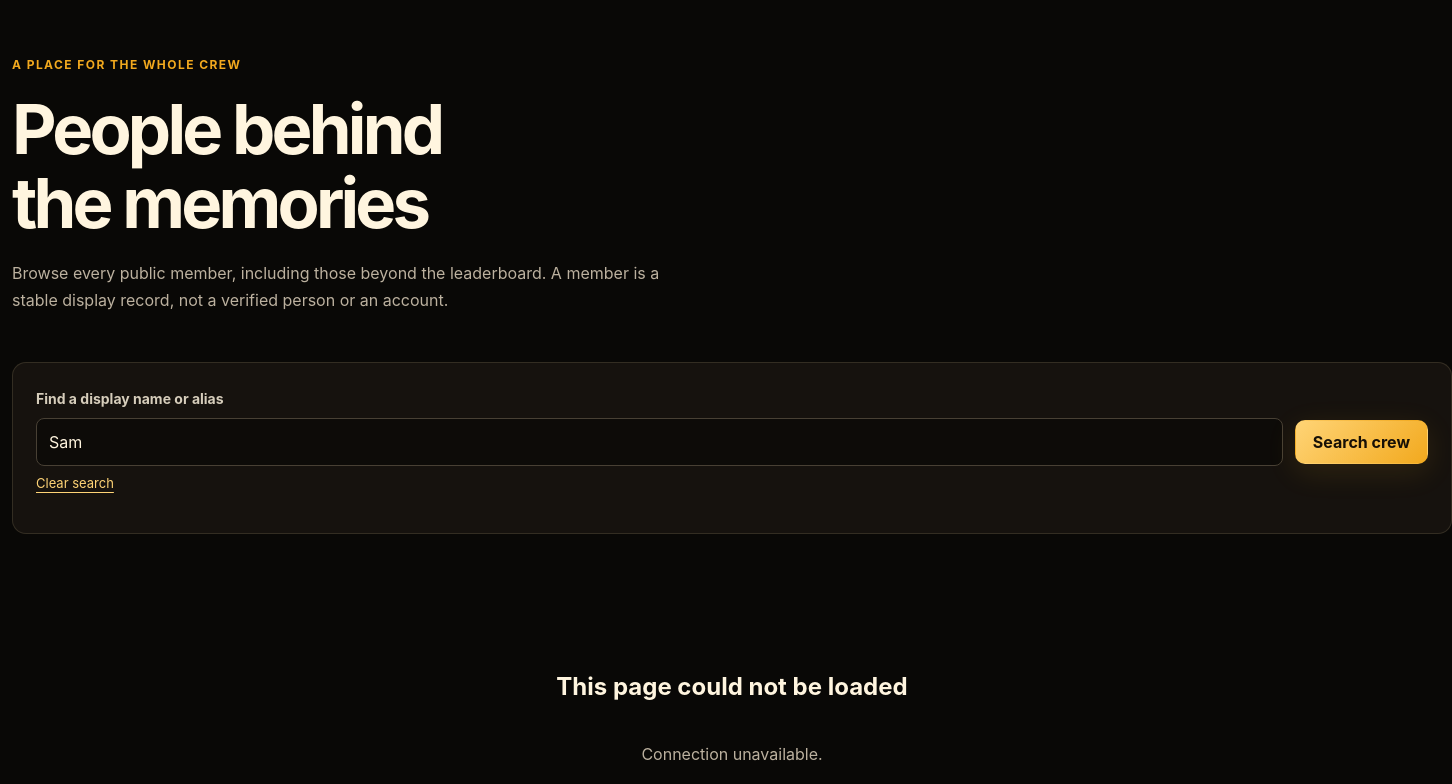
it: community page feedback › retries a directory request in place and preserves the current search input
Expected: the message shows "Connection unavailable.", top-left (641, 744), bottom-right (823, 764)
Type " Jones" into the search field.
click(659, 442); type(" Jones")  # box top-left (36, 418), bottom-right (1283, 466)
(page scrolled)
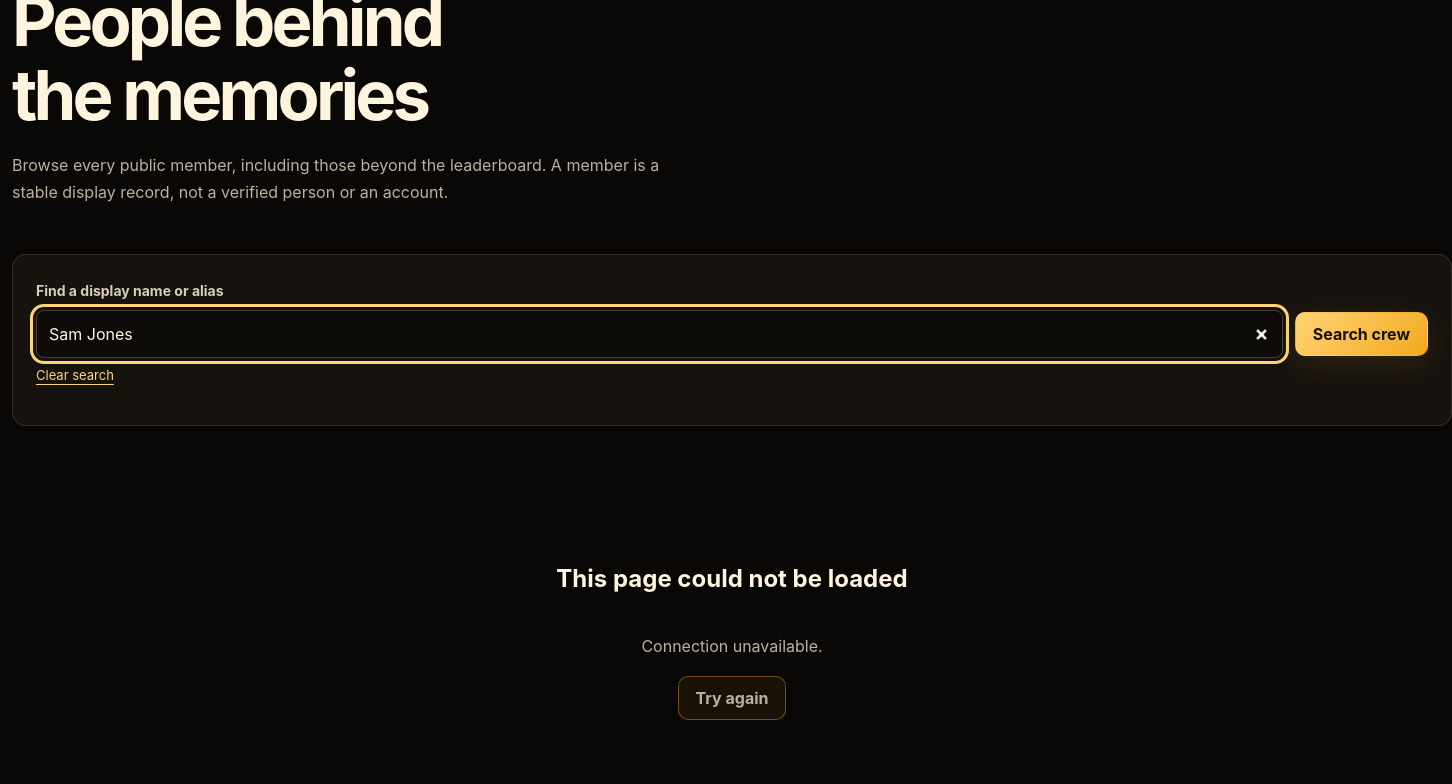
Click the button "Try again".
click(732, 698)  # box top-left (678, 676), bottom-right (786, 720)
(page scrolled)
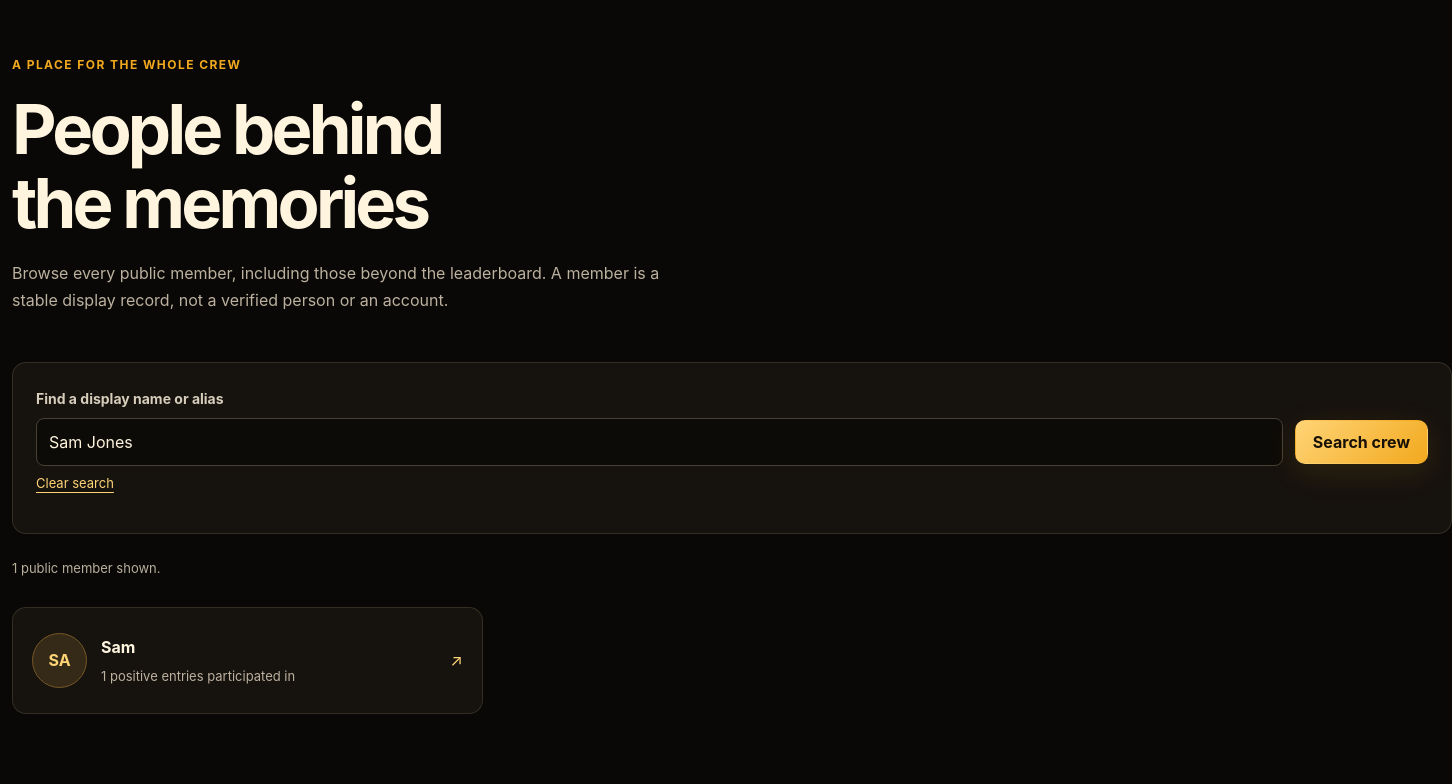
Now the search field holds "Sam Jones", box top-left (36, 418), bottom-right (1283, 466)
Now the link "Sa Sam 1 positive entries participated in ↗" is shown, box top-left (12, 607), bottom-right (483, 714)
Now the message reads "1 public member shown.", box top-left (12, 560), bottom-right (161, 576)
